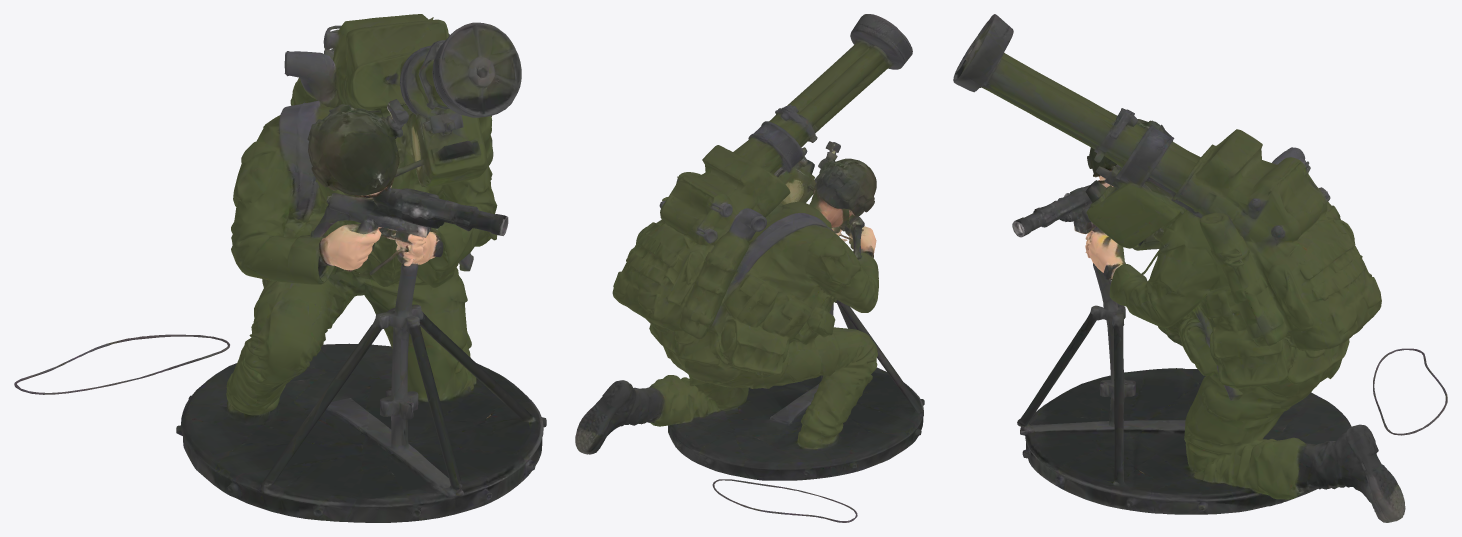
Rendered from mortar.glb.
The picture shows the model from 3 angles, left to right: view 1: azimuth 30°, elevation 25°; view 2: azimuth 150°, elevation 25°; view 3: azimuth 270°, elevation 25°; orthographic projection. The views are drawn at different scales.
Bounding box in the file's own units: 1.54 × 1.83 × 1.88.
Materials: 1 (1 with a texture image).
